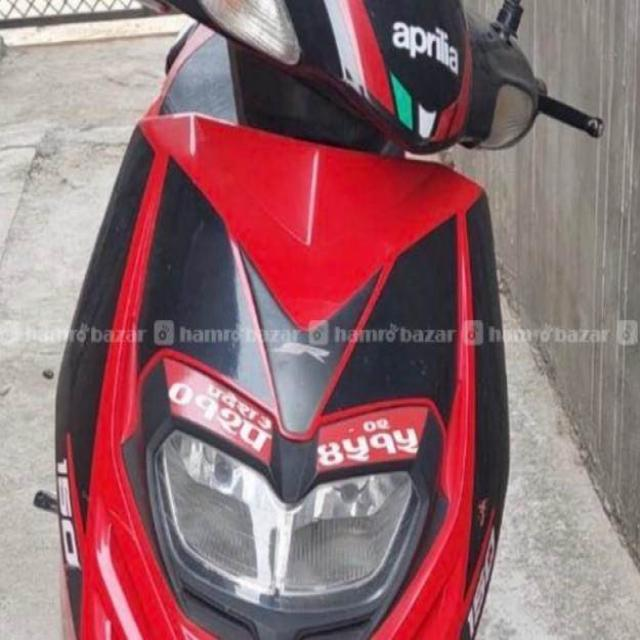License-plate: (153, 346, 434, 481)
